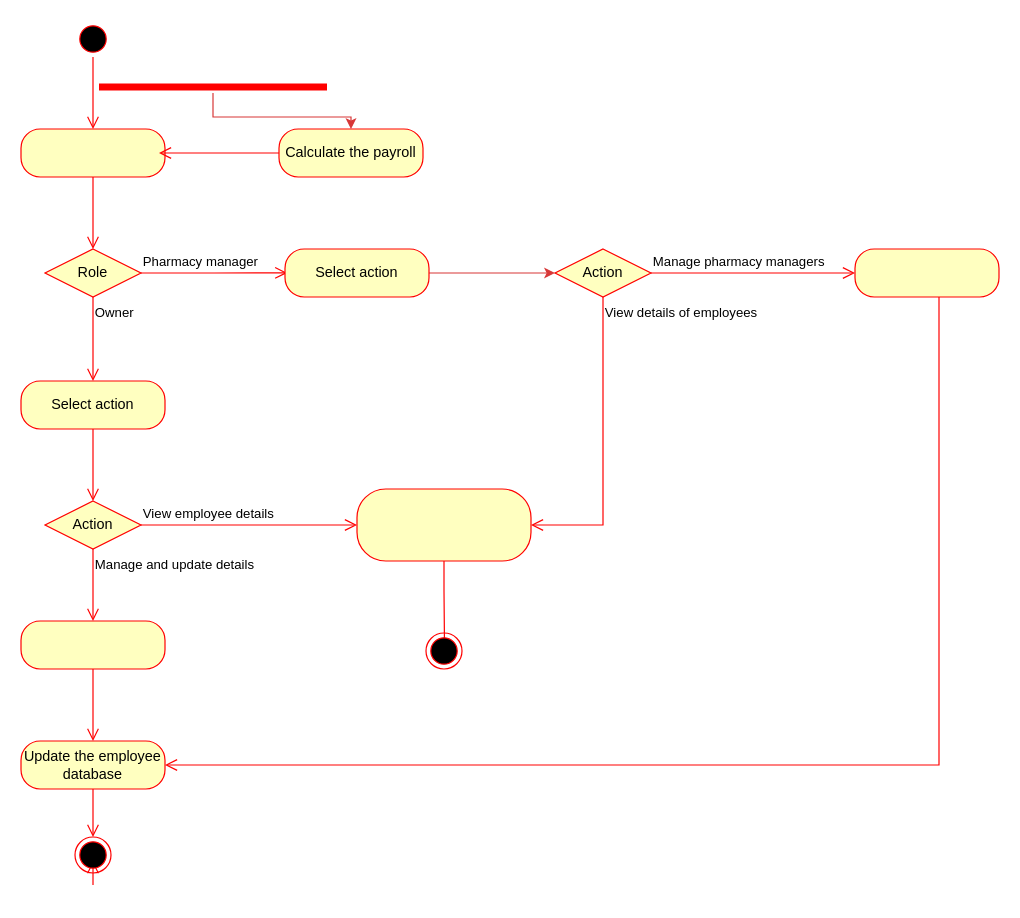
The diagram is 1020 pixels wide and 918 high, and some of its shapes have lost their labels. The shapes that lost their labels are listed below. From the top down, each one's centre as x and y in pixels, then its label:
At (92,152): "Login".
At (926,272): "Update and manage managers".
At (443,524): "Access the database and show relevant data".
At (92,644): "Prompt to enter details".
